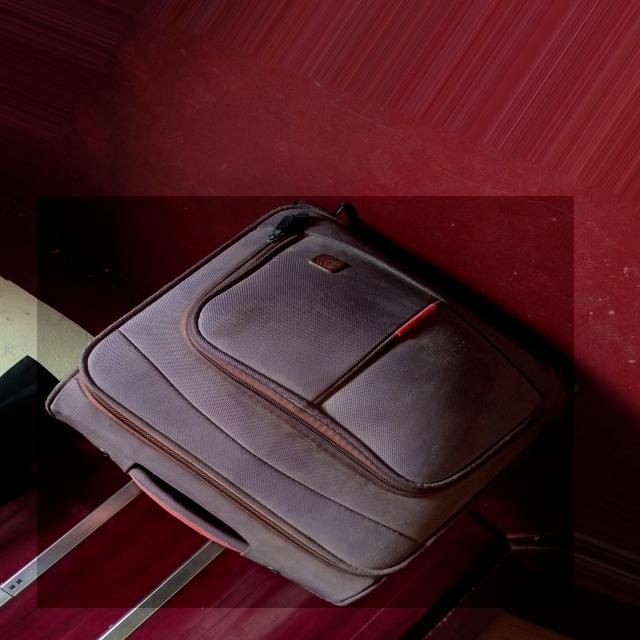Bag: (0, 204, 561, 640)
Handle: (0, 458, 229, 640)
